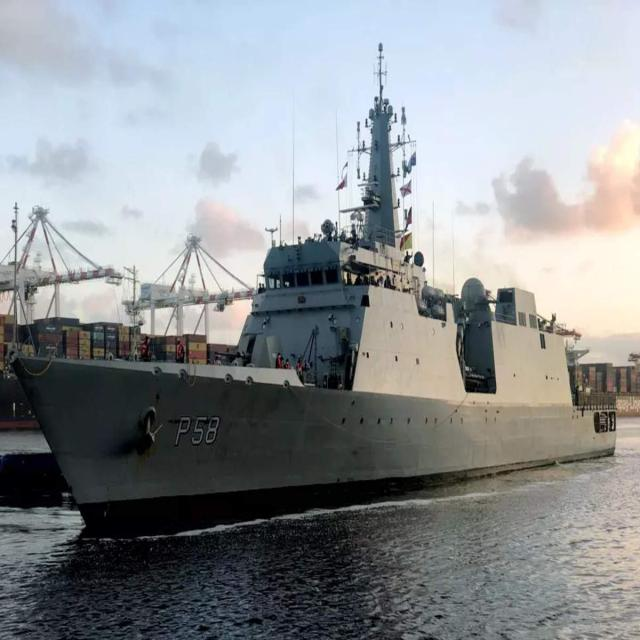Patrol-Vessel-Saryu-Class-IND: (11, 46, 616, 542)
